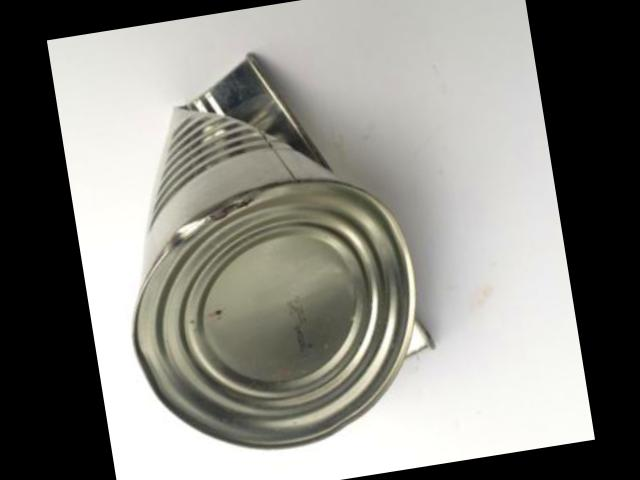metal: (136, 57, 430, 450)
